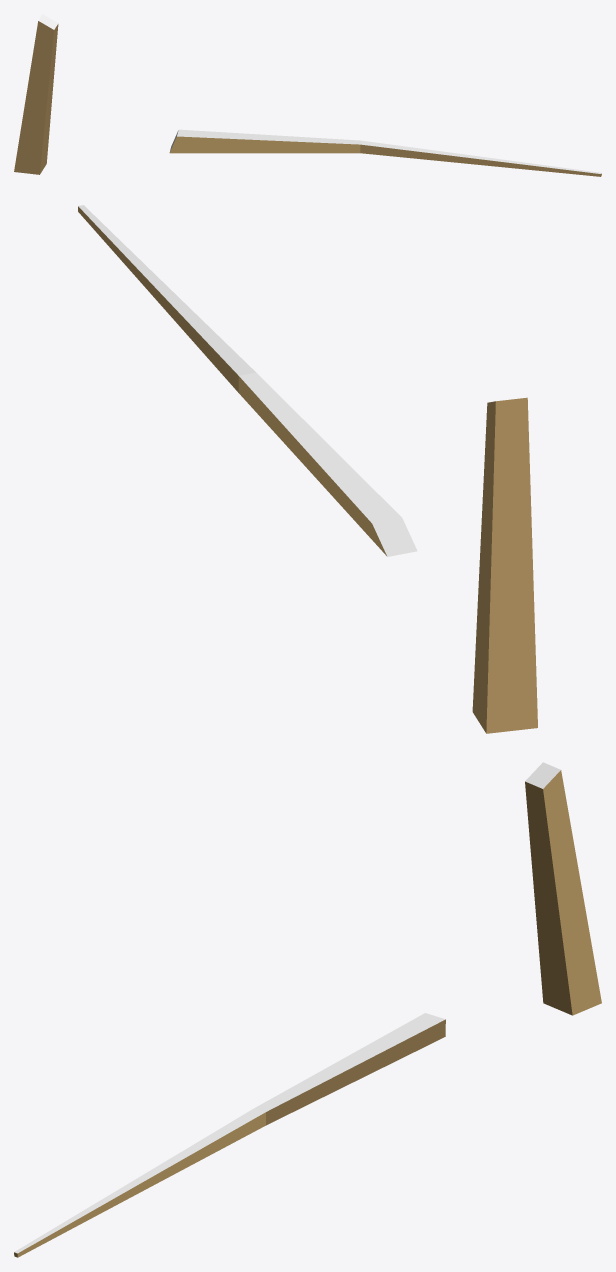
The model's file is Simple_Tree_NoLeaves_crk_s_Snow_BT_03.fbx.
3 renders of one model, top to bottom at view 1: azimuth 30°, elevation 25°; view 2: azimuth 150°, elevation 25°; view 3: azimuth 270°, elevation 25°, orthographic. The views are drawn at different scales.
Visible parts, largest first — view 1: Simple_Tree_NoLeaves_crk_s_Snow_BT_03; view 2: Simple_Tree_NoLeaves_crk_s_Snow_BT_03; view 3: Simple_Tree_NoLeaves_crk_s_Snow_BT_03.
Part boxes in pixels (<box>): Simple_Tree_NoLeaves_crk_s_Snow_BT_03: <box>14,14,601,176</box>; Simple_Tree_NoLeaves_crk_s_Snow_BT_03: <box>78,205,537,733</box>; Simple_Tree_NoLeaves_crk_s_Snow_BT_03: <box>14,762,601,1257</box>.
Size of the model in its own units: 280 by 101 by 224.
